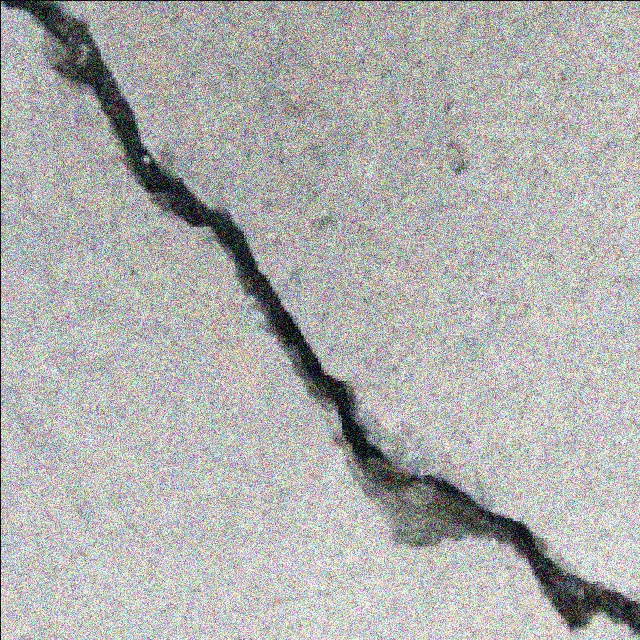SurfaceCrack: (4, 0, 638, 636)
